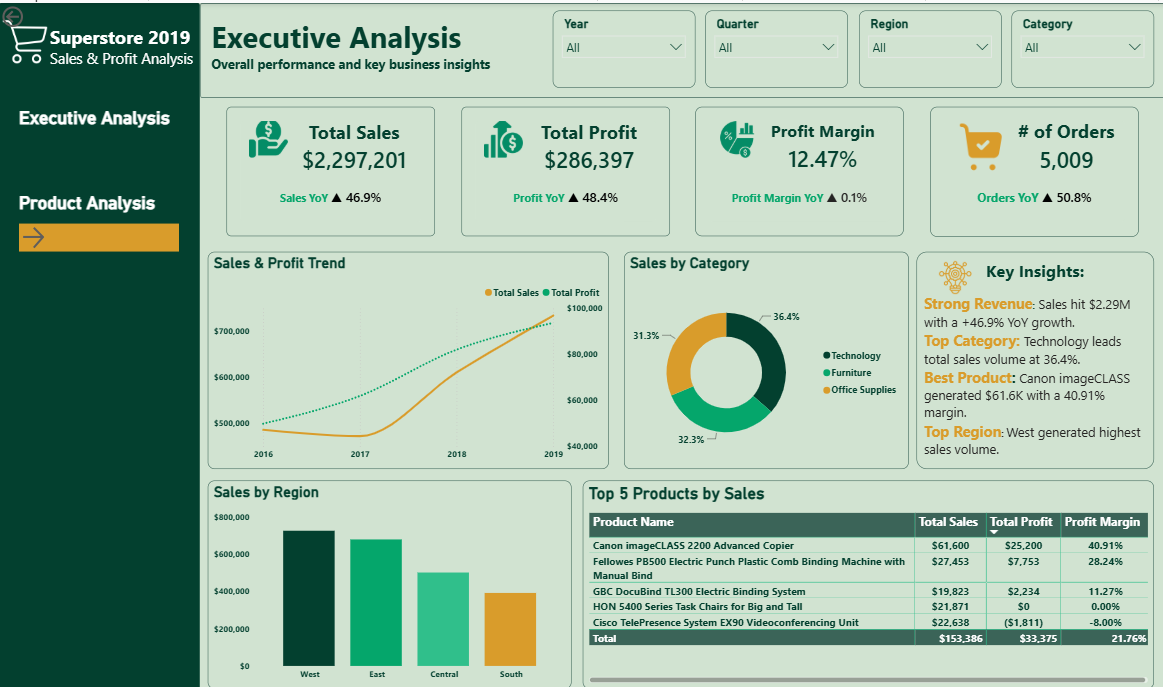

This screenshot's page, from the dashboard's own definition file:
{"tool":"powerbi","page":{"name":"Executive Analysis","canvas":[1700,1000],"ordinal":0},"visuals":[{"type":"shape","box":[0,0,292.7,1000.3],"z":0},{"type":"shape","box":[293.4,0,1407,138.5],"z":1000},{"type":"textbox","box":[304.4,14.6,455.6,103.9],"z":2000},{"type":"textbox","box":[69.4,24.8,234.8,84.3],"z":3000},{"type":"image","box":[5,14.9,64.5,84.3],"z":4000},{"type":"cardVisual","fields":{"Data":["Measures (2).Total Sales"]},"box":[331.7,151.9,304,189],"z":5000},{"type":"cardVisual","fields":{"Data":["Measures (2).Total Profit"]},"box":[673.7,152,304,189],"z":6000},{"type":"cardVisual","fields":{"Data":["Measures (2).Profit Margin"]},"box":[1015.7,151.9,304,189],"z":7000},{"type":"cardVisual","fields":{"Data":["Measures (2).Total Orders"]},"box":[1357.7,151.3,304.4,189.5],"z":8000},{"type":"lineChart","title":"Sales & Profit Trend","fields":{"Category":["Calender.Year","Calender.Quarter","Calender.Month"],"Y":["Measures (2).Total Sales"],"Y2":["Measures (2).Total Profit"]},"box":[304.4,362.7,585,317.1],"z":9000},{"type":"donutChart","title":"Sales by Category","fields":{"Category":["Orders.Category"],"Y":["Measures (2).Total Sales"]},"box":[911.2,362.7,415.5,317.1],"z":10000},{"type":"clusteredColumnChart","title":"Sales by Region","fields":{"Category":["Orders.Region"],"Y":["Measures (2).Total Sales"]},"box":[304.4,696.2,530.3,304.4],"z":11000},{"type":"tableEx","title":"Top 5 Products by Sales","fields":{"Values":["Orders.Product Name","Measures (2).Total Sales","Measures (2).Total Profit","Measures (2).Profit Margin"]},"box":[851.1,696.2,832.9,304.4],"z":12000},{"type":"actionButton","box":[0,0,100,40],"z":13000},{"type":"textbox","box":[1337.7,362.7,346.3,317.1],"z":14000},{"type":"image","box":[1365,375.4,58.3,49.2],"z":15000},{"type":"slicer","fields":{"Values":["Calender.Quarter"]},"box":[1030.3,10.9,207.8,113],"z":16000},{"type":"slicer","fields":{"Values":["Calender.Year"]},"box":[807.4,10.9,207.8,113],"z":16001},{"type":"slicer","fields":{"Values":["Orders.Region"]},"box":[1253.3,10.9,207.8,113],"z":16002},{"type":"slicer","fields":{"Values":["Orders.Category"]},"box":[1476.2,10.9,207.8,113],"z":16003},{"type":"actionButton","title":"Executive Analysis","box":[29.2,151.3,233.3,87.5],"z":16004},{"type":"actionButton","title":"Product Analysis","box":[29.2,275.2,233.3,87.5],"z":16005}]}

Visuals, with their boxes in screenshot pixels (x1, y1, x2, y2), scaled from the page's 1700x1000 canvas onto the 1163x687 screenshot:
shape: {"x1": 0, "y1": 0, "x2": 200, "y2": 686}
shape: {"x1": 201, "y1": 0, "x2": 1162, "y2": 95}
textbox: {"x1": 208, "y1": 10, "x2": 520, "y2": 81}
textbox: {"x1": 47, "y1": 17, "x2": 208, "y2": 75}
image: {"x1": 3, "y1": 10, "x2": 48, "y2": 68}
cardVisual - Measures (2).Total Sales: {"x1": 227, "y1": 104, "x2": 435, "y2": 234}
cardVisual - Measures (2).Total Profit: {"x1": 461, "y1": 104, "x2": 669, "y2": 234}
cardVisual - Measures (2).Profit Margin: {"x1": 695, "y1": 104, "x2": 903, "y2": 234}
cardVisual - Measures (2).Total Orders: {"x1": 929, "y1": 104, "x2": 1137, "y2": 234}
"Sales & Profit Trend" lineChart: {"x1": 208, "y1": 249, "x2": 608, "y2": 467}
"Sales by Category" donutChart: {"x1": 623, "y1": 249, "x2": 908, "y2": 467}
"Sales by Region" clusteredColumnChart: {"x1": 208, "y1": 478, "x2": 571, "y2": 686}
"Top 5 Products by Sales" tableEx: {"x1": 582, "y1": 478, "x2": 1152, "y2": 686}
actionButton: {"x1": 0, "y1": 0, "x2": 68, "y2": 27}
textbox: {"x1": 915, "y1": 249, "x2": 1152, "y2": 467}
image: {"x1": 934, "y1": 258, "x2": 974, "y2": 292}
slicer - Calender.Quarter: {"x1": 705, "y1": 7, "x2": 847, "y2": 85}
slicer - Calender.Year: {"x1": 552, "y1": 7, "x2": 695, "y2": 85}
slicer - Orders.Region: {"x1": 857, "y1": 7, "x2": 1000, "y2": 85}
slicer - Orders.Category: {"x1": 1010, "y1": 7, "x2": 1152, "y2": 85}
"Executive Analysis" actionButton: {"x1": 20, "y1": 104, "x2": 180, "y2": 164}
"Product Analysis" actionButton: {"x1": 20, "y1": 189, "x2": 180, "y2": 249}
